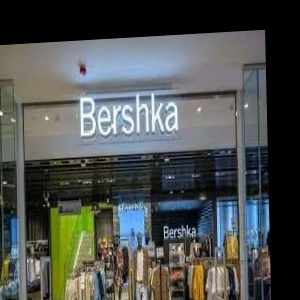bershka: (93, 119, 271, 300), (131, 59, 224, 118)
